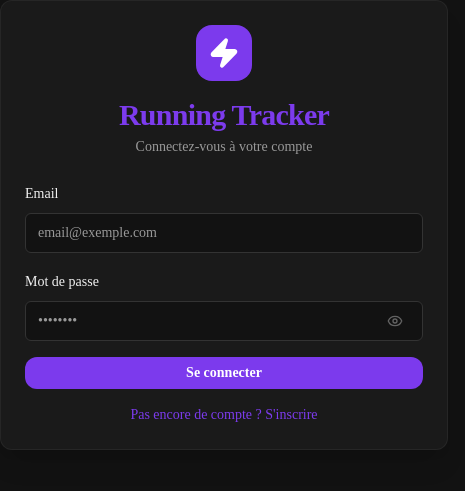
Test case: LoginCard › inline error handling › shows email error when email is empty
The width and height of the screenshot is (465, 491).
Type "password123" into the password field with test id "login-password" at (224,321), box [25,301,423,341]
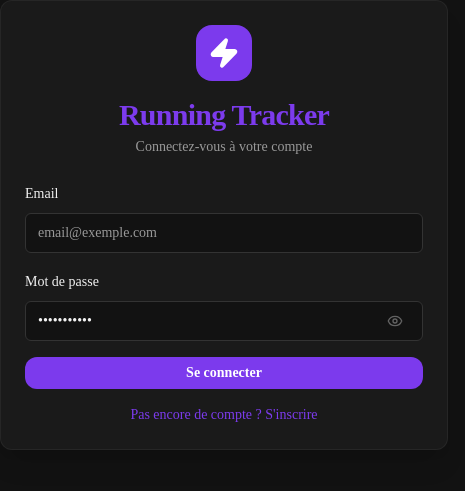
Click the button with test id "login-submit" at (224,373), box [25,357,423,389]
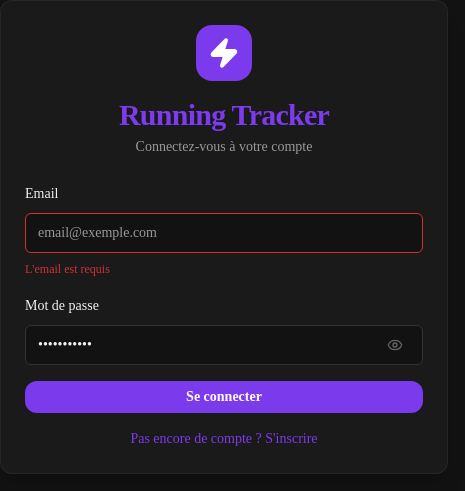
Expected: the text "L'email est requis" is shown, [25,262,110,276]
